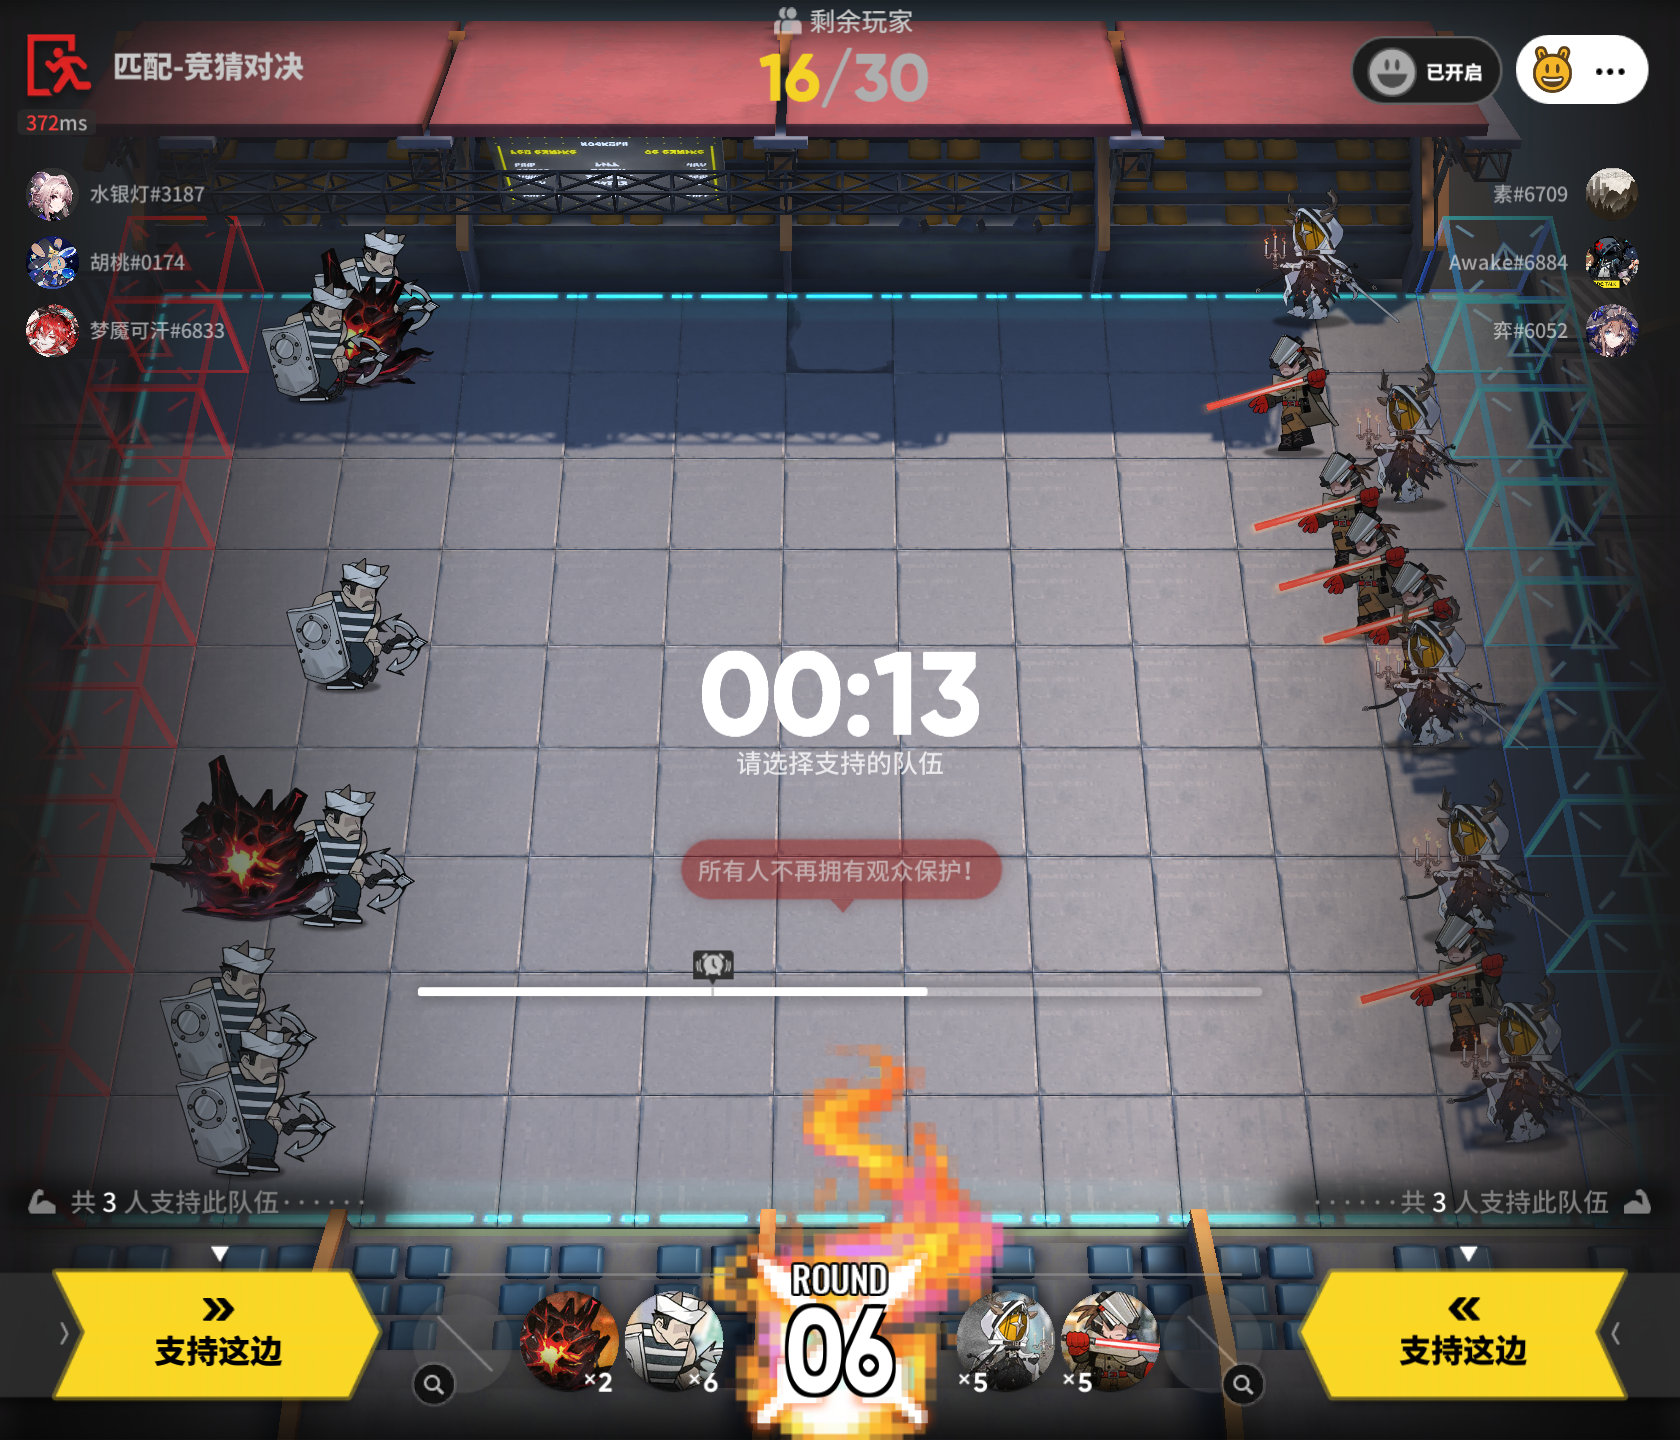“庞贝”: (157, 751, 321, 919), (289, 244, 434, 394), (523, 1289, 623, 1399)
弧光武士: (1344, 910, 1530, 1059), (1239, 436, 1411, 573), (1317, 559, 1470, 684), (1273, 509, 1423, 634), (1201, 327, 1344, 457), (1049, 1279, 1166, 1403)
点灯骑士: (1370, 599, 1549, 764), (1414, 789, 1574, 957), (1471, 989, 1623, 1161), (1263, 189, 1410, 339), (1364, 359, 1484, 513), (947, 1283, 1056, 1397)
过气水手: (159, 931, 319, 1086), (271, 766, 411, 939), (181, 1026, 341, 1174), (294, 551, 426, 694), (271, 274, 389, 404), (314, 217, 434, 339), (624, 1283, 730, 1391)
